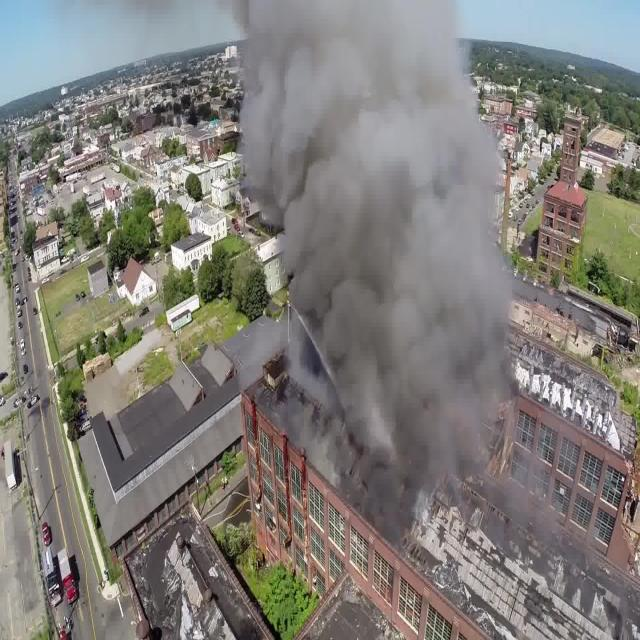Smoke: (231, 2, 522, 467)
